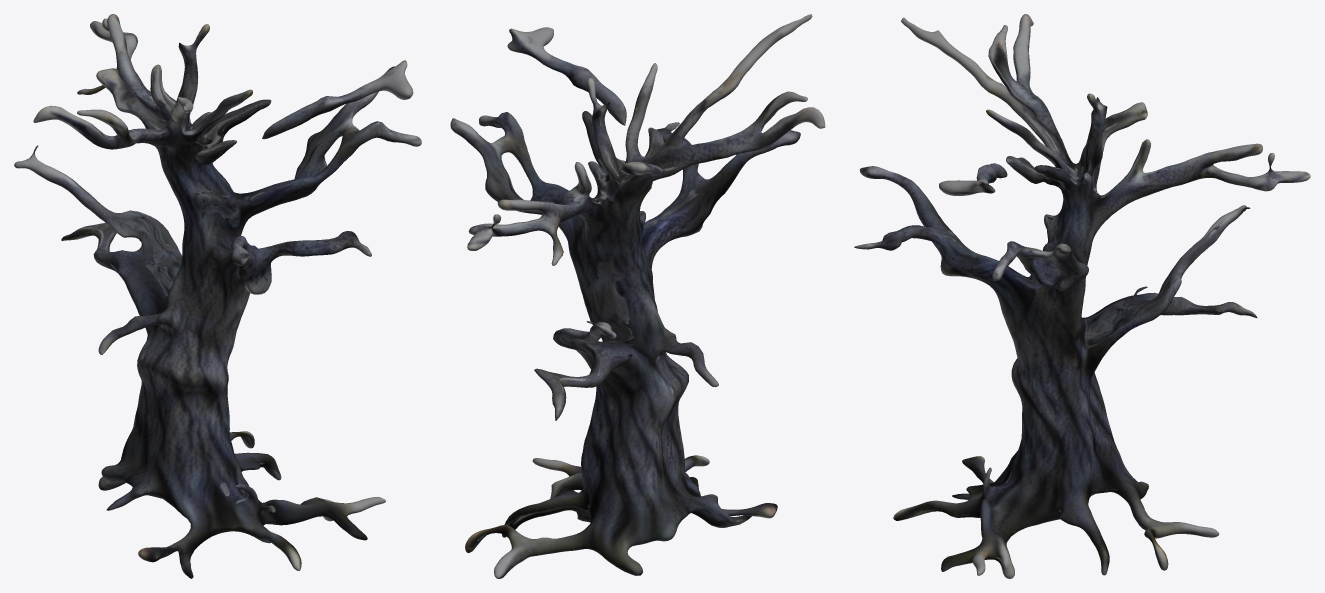
Rendered from 8f8452c7dabb_fully_grey_dead_spo.fbx.
The picture shows the model from 3 angles, left to right: view 1: azimuth 30°, elevation 25°; view 2: azimuth 150°, elevation 25°; view 3: azimuth 270°, elevation 25°; orthographic projection. The views are drawn at different scales.
Parts seen in each view (by area): view 1: mesh; view 2: mesh; view 3: mesh.
Boxes of the visible parts, x1=… form: mesh: x1=14, y1=14, x2=421, y2=578; mesh: x1=450, y1=14, x2=825, y2=578; mesh: x1=854, y1=14, x2=1310, y2=578.
Bounding box in the file's own units: 76.19 × 99.61 × 87.92.
